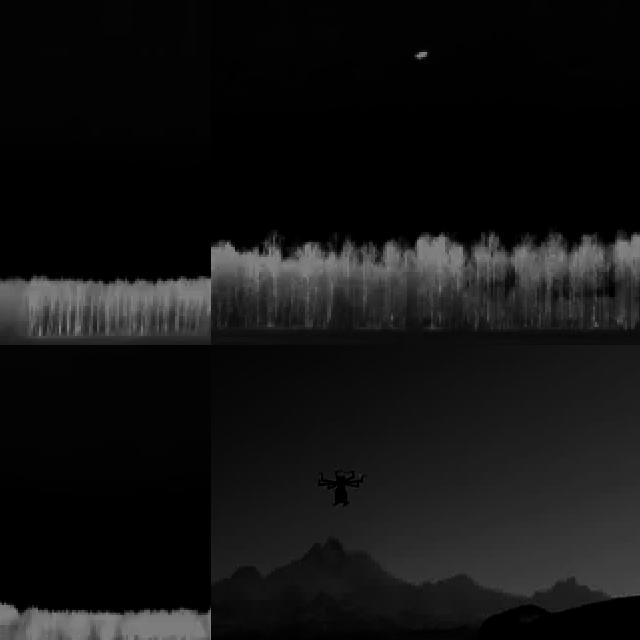1: (406, 42, 442, 72)
drone: (318, 462, 362, 512)
